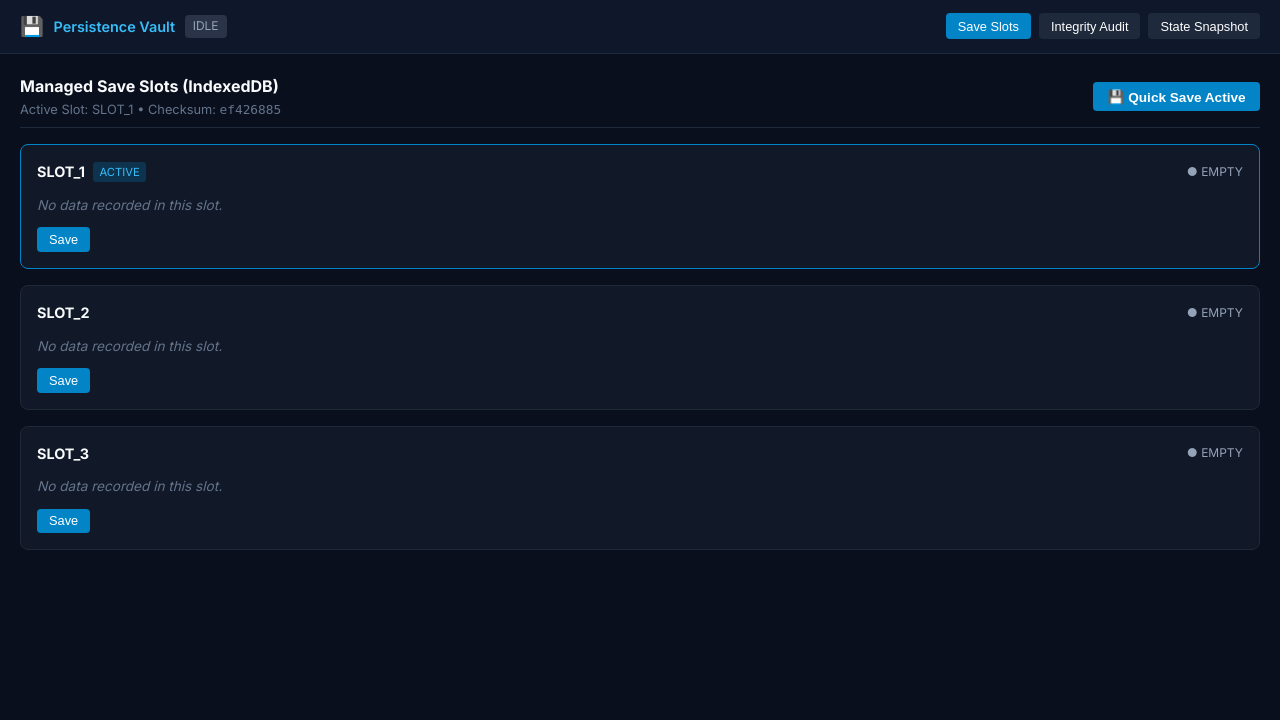
SaveManagerApp Desktop Component › saves slot 2, then deletes it with confirmation
// Save to slot 2
Click the button with test id "btn-app-save-slot_2": (64, 380) x1=37 y1=368 x2=90 y2=393
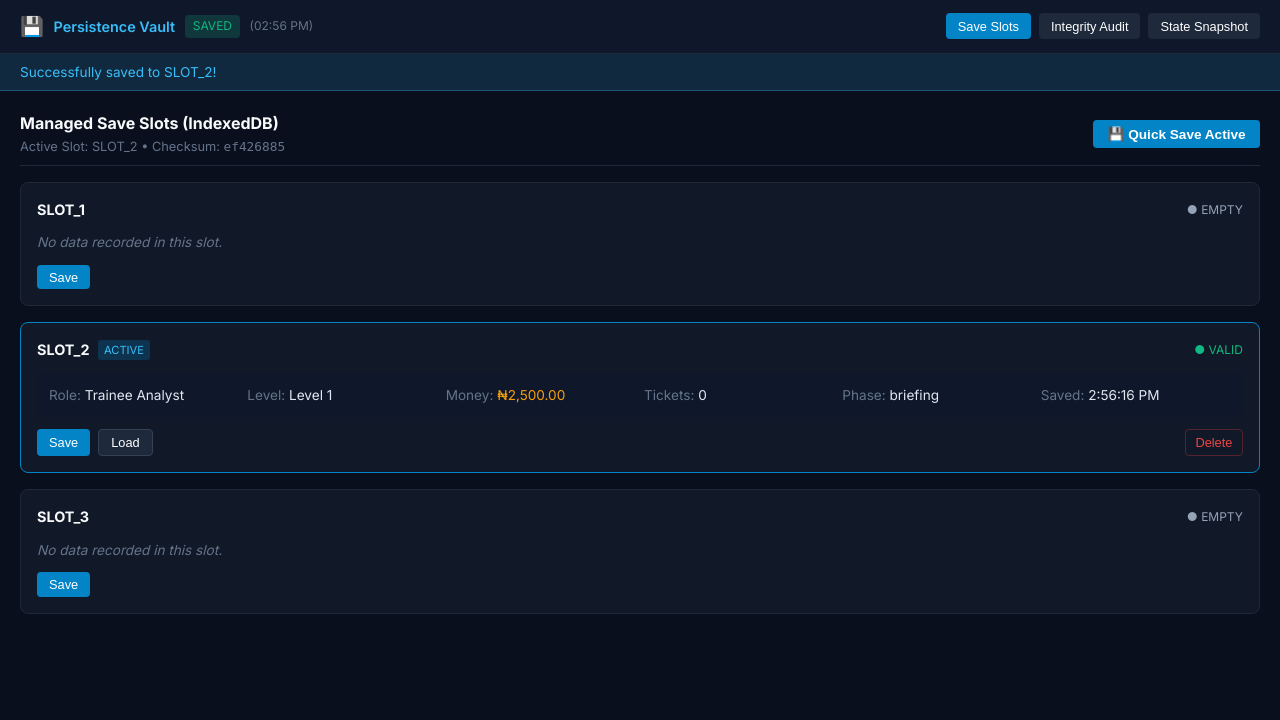
Expected: the text with test id "app-slot-badge-slot_2" reads "● VALID", x1=1194 y1=341 x2=1243 y2=359
// Click delete
Click the button with test id "btn-app-delete-slot_2": (1214, 443) x1=1185 y1=429 x2=1243 y2=456
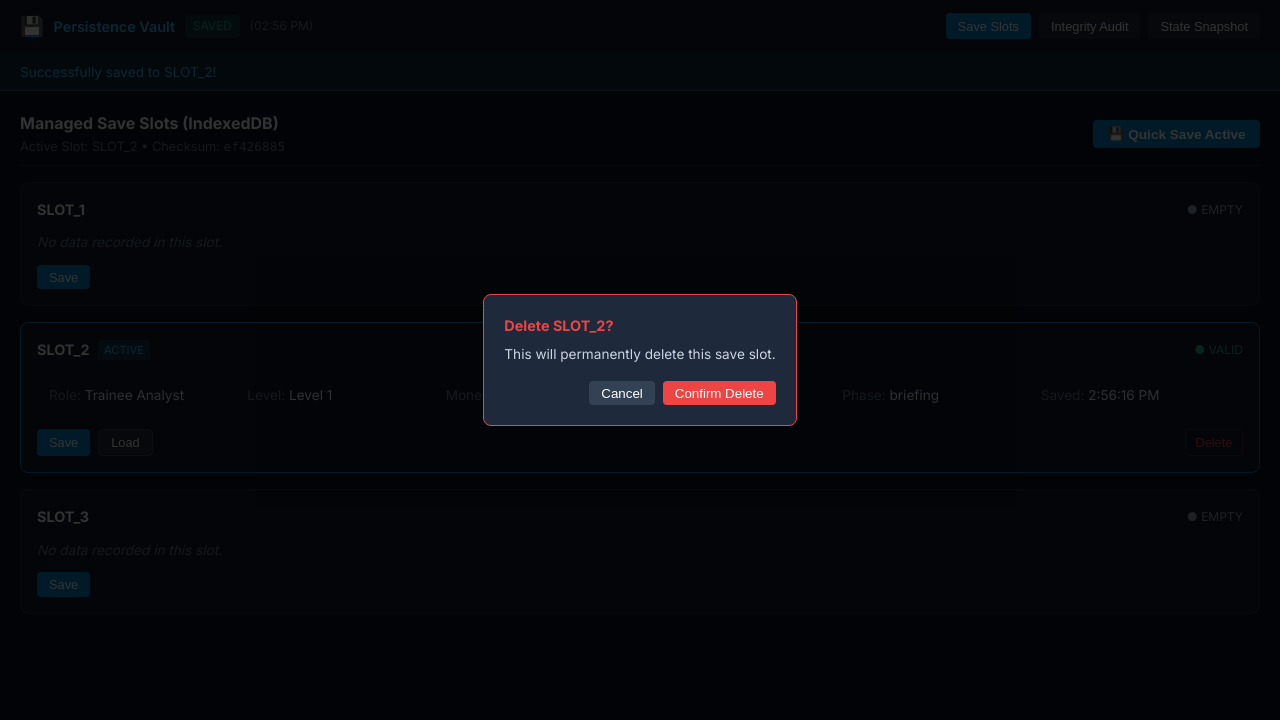
Expected: the dialog with test id "app-confirm-delete-modal" is shown
// Confirm deletion
Click the button with test id "btn-app-confirm-delete": (719, 393) x1=663 y1=381 x2=776 y2=405
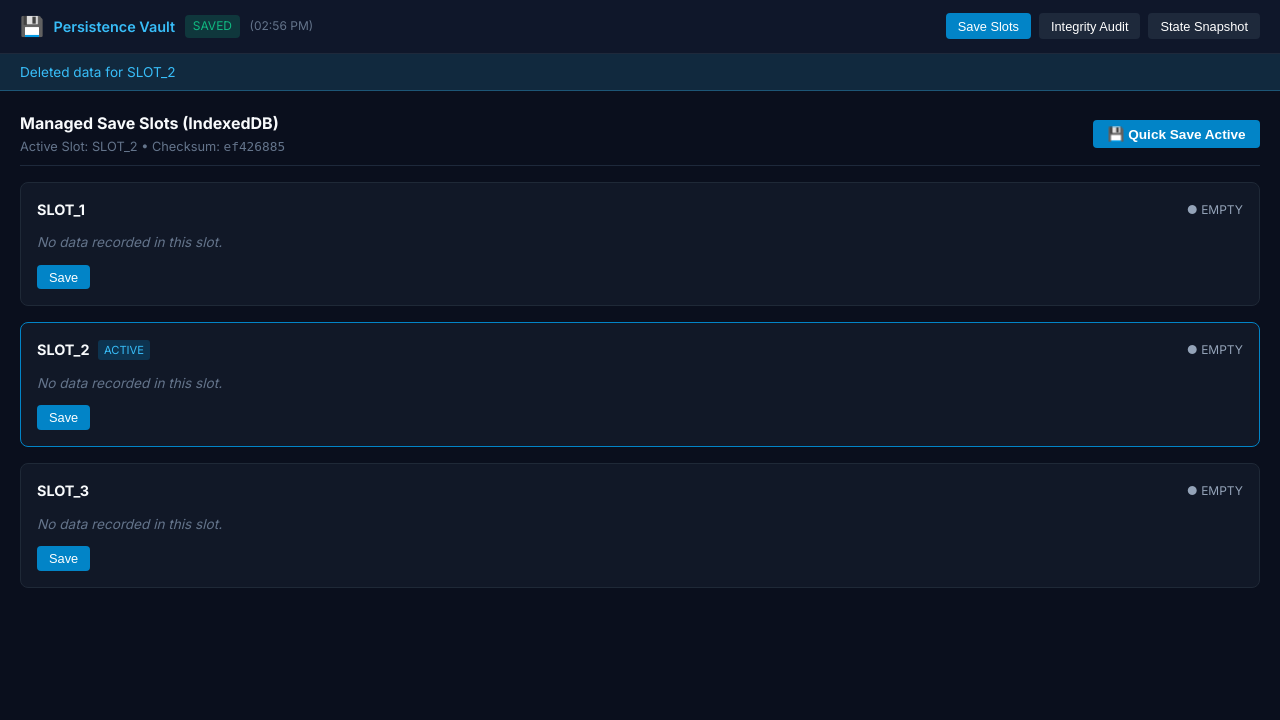
Expected: the text with test id "app-slot-badge-slot_2" reads "● EMPTY", x1=1187 y1=341 x2=1243 y2=359
